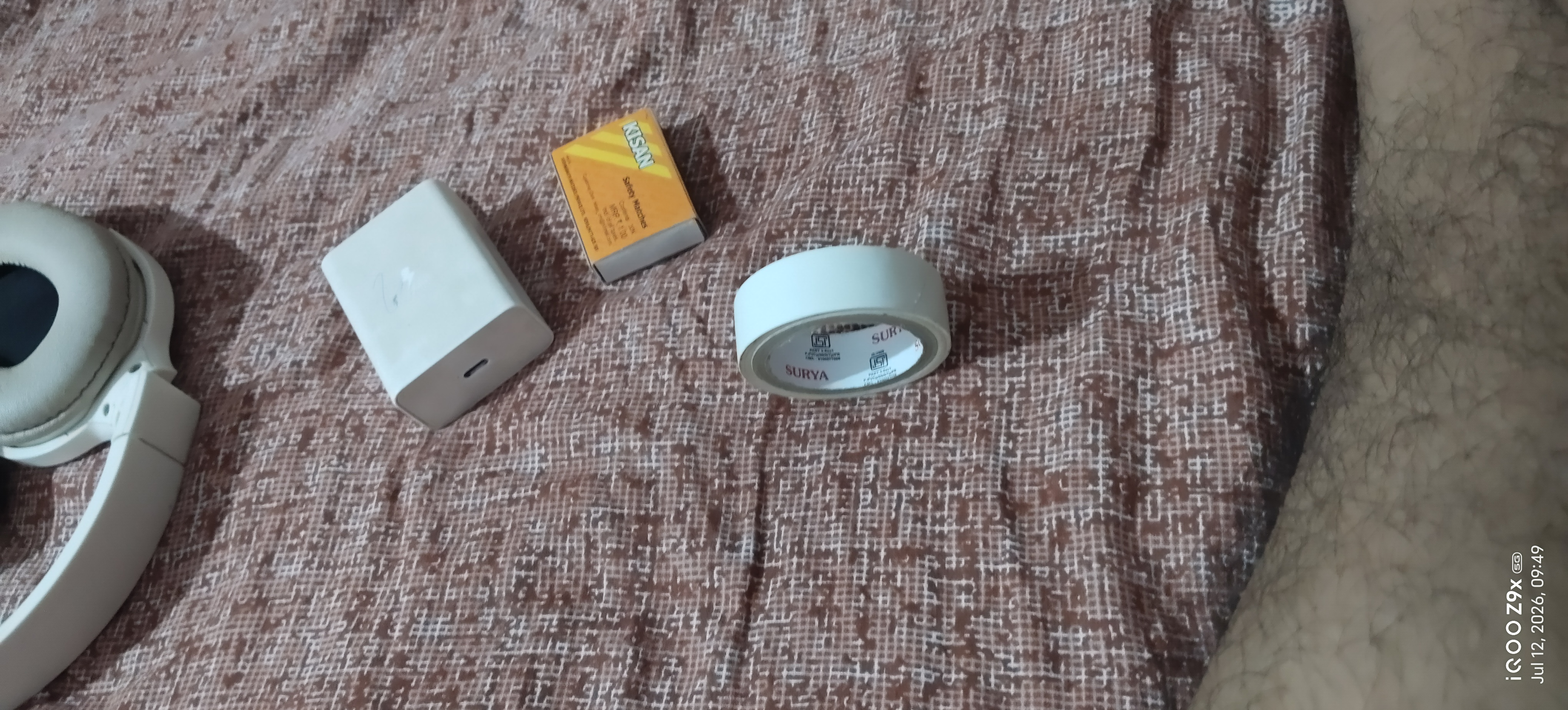charger: (312, 166, 564, 442)
matchbox: (537, 100, 716, 293)
tape_roll: (714, 232, 971, 403)
